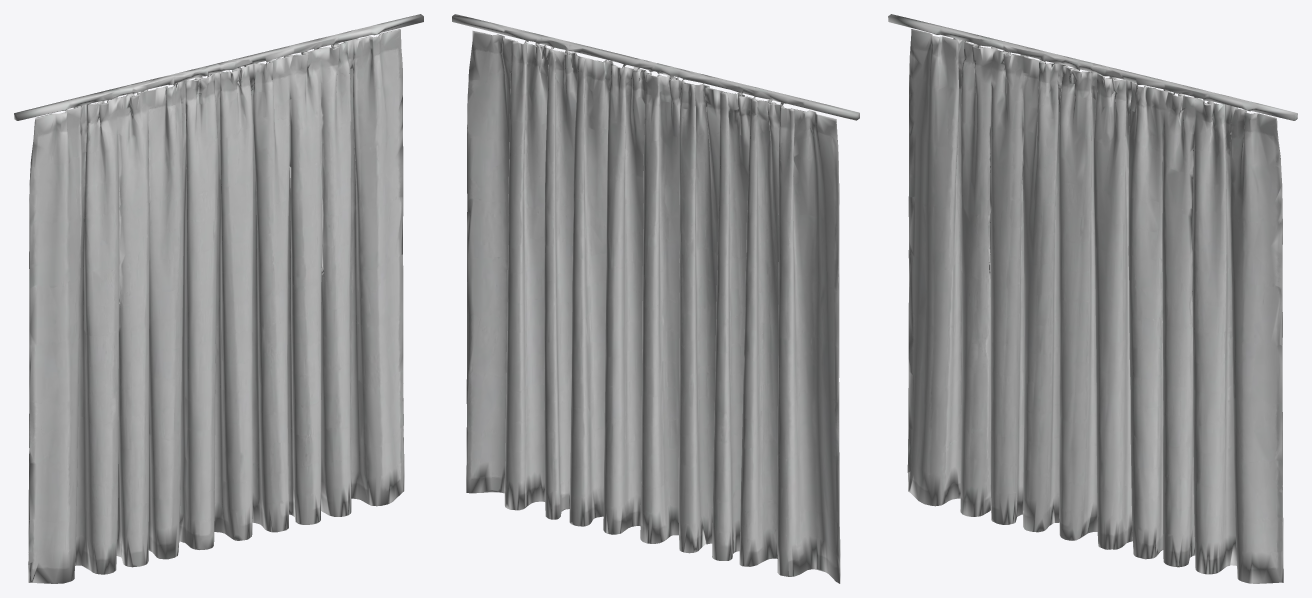
Rendered from Sheer Hotel Curtain.glb.
3 views of the same model, side by side, from view 1: azimuth 30°, elevation 25°; view 2: azimuth 150°, elevation 25°; view 3: azimuth 330°, elevation 25° (orthographic).
Visible parts, largest first — view 1: Mesh_0.001; view 2: Mesh_0.001; view 3: Mesh_0.001.
Boxes of the visible parts, bbox=[...] form: Mesh_0.001: bbox=[14, 14, 423, 583]; Mesh_0.001: bbox=[452, 14, 859, 583]; Mesh_0.001: bbox=[888, 14, 1297, 583].
Bounding box in the file's own units: 1.79 × 2 × 0.1394.
Materials: 1 (1 with a texture image).
